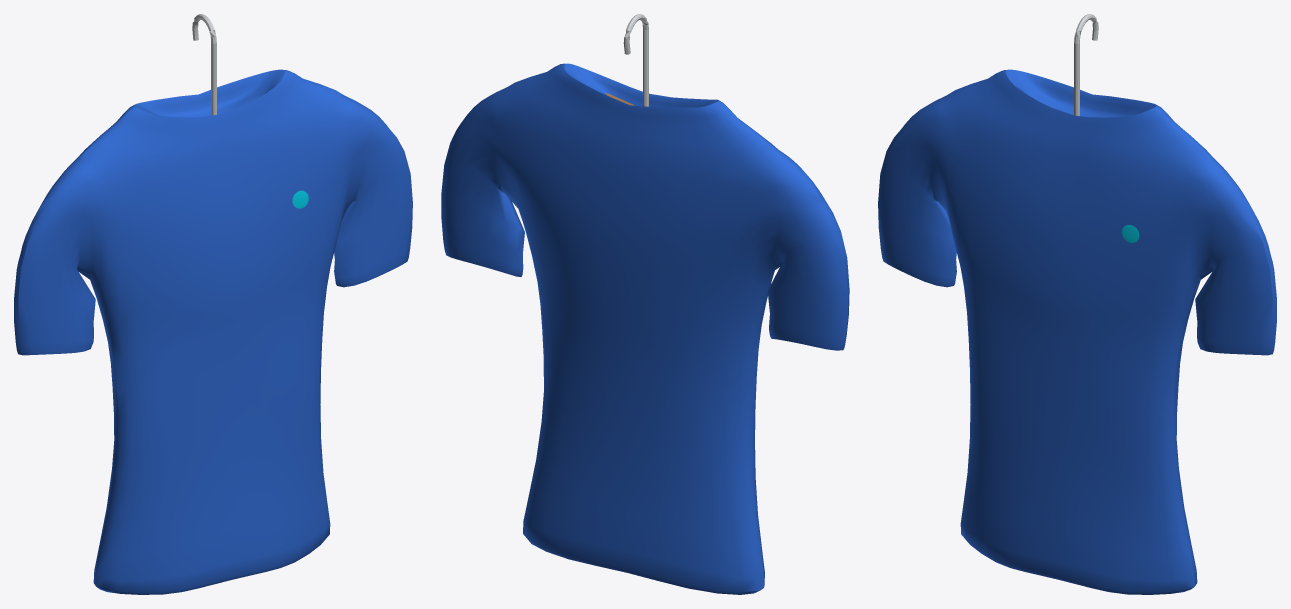
The model's file is Display_Tee_Hanger.fbx.
3 renders of one model, left to right at view 1: azimuth 30°, elevation 25°; view 2: azimuth 150°, elevation 25°; view 3: azimuth 330°, elevation 25°, orthographic. The views are drawn at different scales.
Parts seen in each view (by area): view 1: Tee_Garment, Tee_Hanger; view 2: Tee_Garment, Tee_Hanger; view 3: Tee_Garment, Tee_Hanger.
Part boxes in pixels (left/top/right/bottom): Tee_Garment: left=14, top=69, right=412, bottom=594; Tee_Hanger: left=192, top=14, right=216, bottom=115; Tee_Garment: left=441, top=63, right=849, bottom=594; Tee_Hanger: left=605, top=14, right=648, bottom=106; Tee_Garment: left=878, top=69, right=1276, bottom=594; Tee_Hanger: left=1074, top=14, right=1098, bottom=116.
Size of the model in its own units: 0.4619 by 0.6061 by 0.0843.
